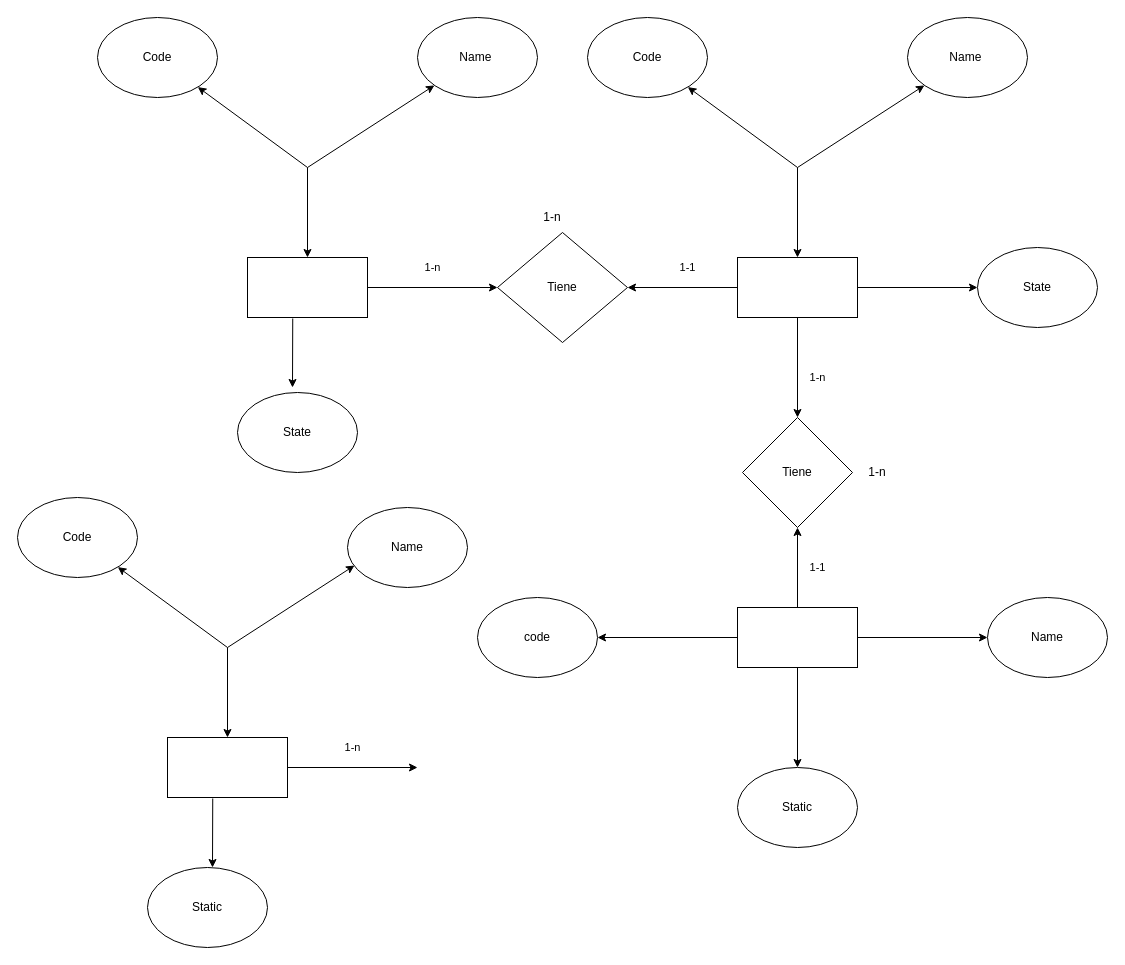
Image size: 1125x965. Some labels were removed from this diagram. Here are the shapes that lost their labels. From the top down, the centre of each, then its label:
At pixel 307 287: "continent".
At pixel 797 287: "country".
At pixel 797 637: "Departament".
At pixel 227 767: "City".
